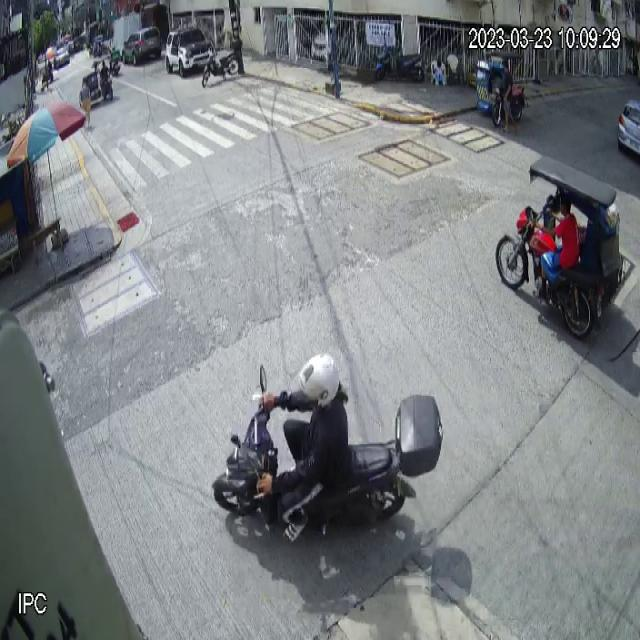Motorcycle: (210, 359, 445, 546), (374, 41, 426, 84), (202, 44, 240, 89)
Tricycle: (494, 155, 626, 339), (475, 50, 528, 129)
